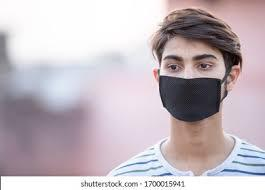mask: (157, 70, 225, 122)
